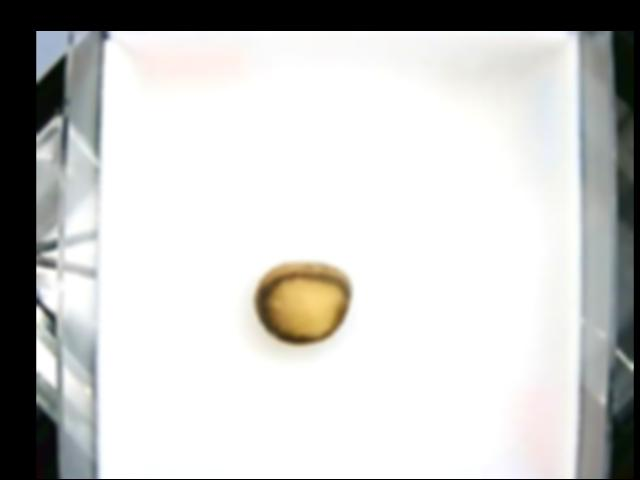Potato: (255, 258, 353, 347)
